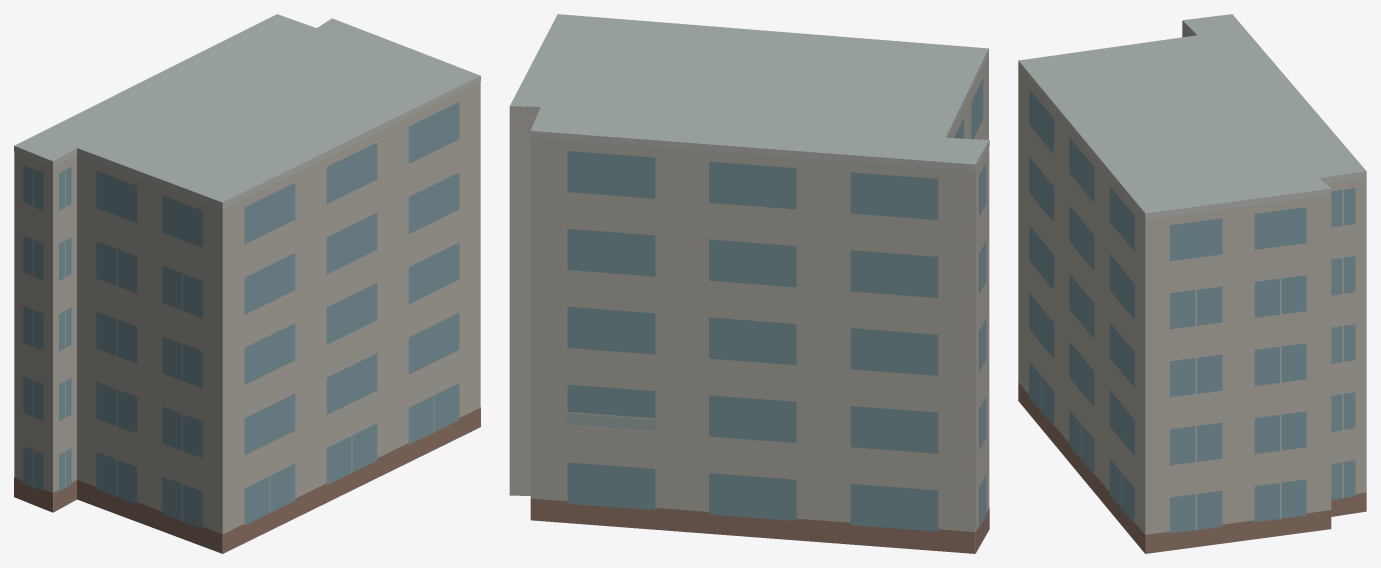
Rendered from survey-upis-32859553.glb.
The picture shows the model from 3 angles, left to right: view 1: azimuth 30°, elevation 25°; view 2: azimuth 150°, elevation 25°; view 3: azimuth 270°, elevation 25°; orthographic projection. The views are drawn at different scales.
Parts seen in each view (by area): view 1: survey-upis-32859553.tmp; view 2: survey-upis-32859553.tmp; view 3: survey-upis-32859553.tmp.
Boxes of the visible parts, x1,y1,x2,y2 form: survey-upis-32859553.tmp: (14,14,480,553); survey-upis-32859553.tmp: (509,14,989,553); survey-upis-32859553.tmp: (1018,14,1366,553).
Size of the model in its own units: 18.23 by 14.5 by 13.45.
